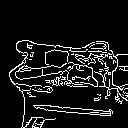cube: (43, 45, 69, 71)
